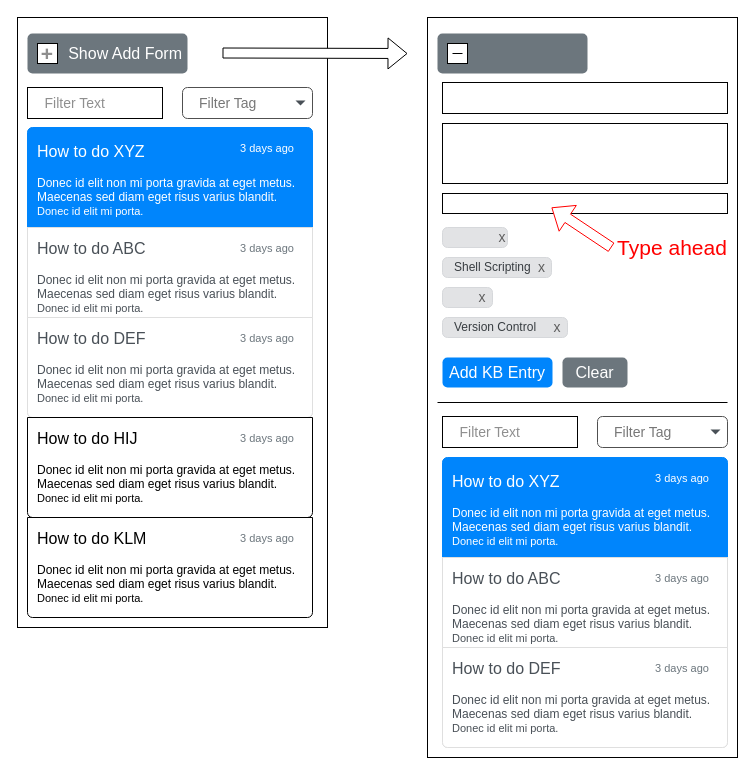
Some shapes in this 755 by 775 pixel diagram are drawn without their labels. Each missing label, with the box of its shape:
Description: (442, 122, 728, 184)
Git: (442, 286, 492, 308)
Hide Add Form: (437, 33, 587, 73)
Linux: (442, 226, 508, 248)
New Tag: (442, 192, 728, 214)
Title: (442, 82, 728, 114)
